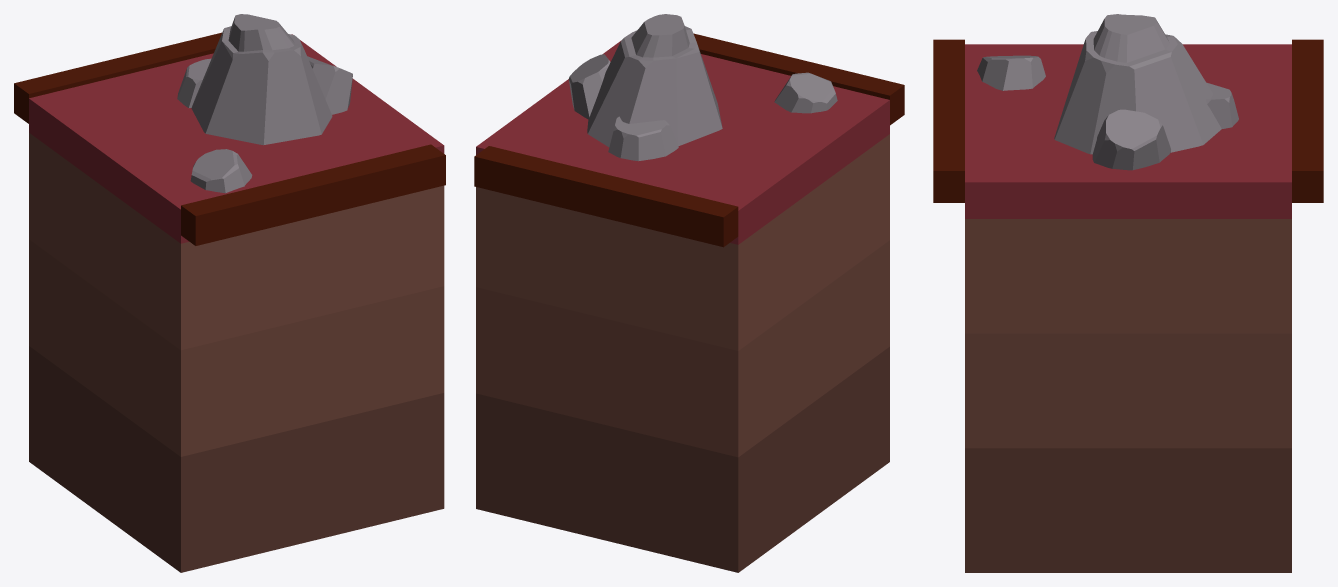
The model's file is Plano11.fbx.
The picture shows the model from 3 angles, left to right: view 1: azimuth 30°, elevation 25°; view 2: azimuth 150°, elevation 25°; view 3: azimuth 270°, elevation 25°; orthographic projection. The views are drawn at different scales.
Parts seen in each view (by area): view 1: Plane.059, Plane.058, Cube.1721, 2Pedras.010, 2Pedras.006, 2Pedras.005, 2Pedras.003; view 2: Plane.059, Plane.058, Cube.1721, 2Pedras.010, 2Pedras.003, 2Pedras.006, 2Pedras.005; view 3: Plane.059, Plane.058, 2Pedras.010, Cube.1721, 2Pedras.005, 2Pedras.006, 2Pedras.003.
Boxes of the visible parts, box(x1,y1,x2,y2) form: Plane.059: box(29, 133, 444, 572); Plane.058: box(29, 34, 444, 243); Cube.1721: box(14, 32, 445, 245); 2Pedras.010: box(191, 14, 332, 145); 2Pedras.006: box(190, 149, 252, 193); 2Pedras.005: box(307, 56, 352, 114); 2Pedras.003: box(177, 58, 211, 107); Plane.059: box(476, 134, 889, 572); Plane.058: box(476, 40, 889, 244); Cube.1721: box(474, 33, 904, 247); 2Pedras.010: box(587, 14, 722, 147); 2Pedras.003: box(608, 116, 678, 161); 2Pedras.006: box(774, 72, 837, 113); 2Pedras.005: box(568, 54, 610, 119); Plane.059: box(965, 219, 1291, 572); Plane.058: box(965, 44, 1291, 218); 2Pedras.010: box(1054, 14, 1221, 154); Cube.1721: box(933, 39, 1323, 202); 2Pedras.005: box(1092, 109, 1170, 170); 2Pedras.006: box(977, 55, 1045, 90); 2Pedras.003: box(1206, 82, 1238, 128).
Bounding box in the file's own units: 800 × 1336 × 955.
